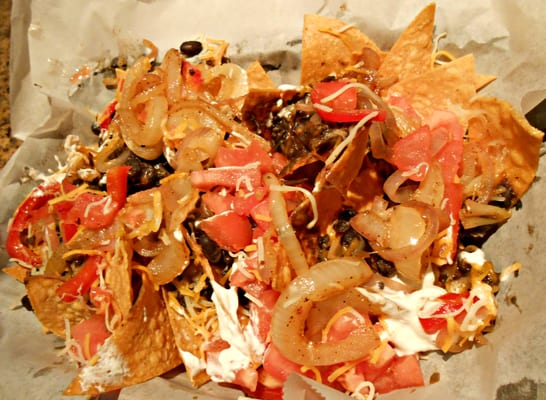sandwich: (3, 13, 542, 393)
